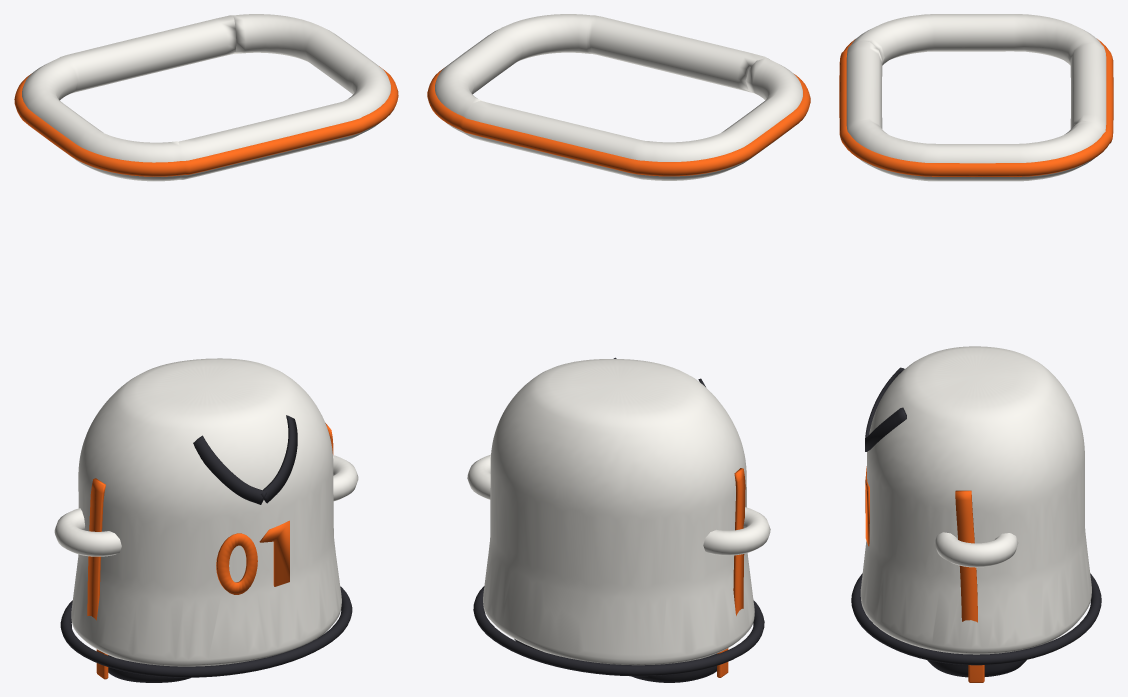
File: sat.glb
The picture shows the model from 3 angles, left to right: view 1: azimuth 30°, elevation 25°; view 2: azimuth 150°, elevation 25°; view 3: azimuth 270°, elevation 25°; orthographic projection. The views are drawn at different scales.
Parts seen in each view (by area): view 1: sat_Torso_00_jersey, sat_Head_00_headband, sat_Head_01_headband_stripe, sat_Torso_01_hem, sat_ArmL_00_wristband, sat_Torso_06_zero, sat_Torso_04_side-1, sat_Torso_02_trim_a, sat_Torso_07_one, sat_Torso_03_trim_b, sat_ArmR_00_wristband.001, sat_Legs_00_shorts-1; view 2: sat_Torso_00_jersey, sat_Head_00_headband, sat_Head_01_headband_stripe, sat_Torso_01_hem, sat_ArmL_00_wristband, sat_Torso_04_side-1, sat_ArmR_00_wristband.001, sat_Legs_00_shorts-1; view 3: sat_Torso_00_jersey, sat_Head_00_headband, sat_Head_01_headband_stripe, sat_Torso_01_hem, sat_ArmR_00_wristband.001, sat_Torso_05_side1, sat_Legs_01_shorts1, sat_Torso_03_trim_b.
Boxes of the visible parts, x1,y1,x2,y2 form: sat_Torso_00_jersey: (71, 358, 341, 666); sat_Head_00_headband: (22, 14, 390, 181); sat_Head_01_headband_stripe: (14, 66, 398, 176); sat_Torso_01_hem: (60, 586, 352, 677); sat_ArmL_00_wristband: (54, 508, 121, 556); sat_Torso_06_zero: (216, 533, 257, 594); sat_Torso_04_side-1: (87, 478, 105, 620); sat_Torso_02_trim_a: (193, 435, 266, 504); sat_Torso_07_one: (259, 520, 289, 586); sat_Torso_03_trim_b: (261, 415, 297, 503); sat_ArmR_00_wristband.001: (333, 455, 358, 501); sat_Legs_00_shorts-1: (108, 655, 190, 682); sat_Torso_00_jersey: (483, 359, 754, 665); sat_Head_00_headband: (435, 14, 802, 180); sat_Head_01_headband_stripe: (427, 67, 810, 176); sat_Torso_01_hem: (473, 586, 764, 676); sat_ArmL_00_wristband: (703, 507, 770, 555); sat_Torso_04_side-1: (733, 468, 745, 615); sat_ArmR_00_wristband.001: (467, 454, 490, 499); sat_Legs_00_shorts-1: (631, 653, 716, 682); sat_Torso_00_jersey: (860, 346, 1091, 654); sat_Head_00_headband: (846, 14, 1106, 181); sat_Head_01_headband_stripe: (839, 39, 1113, 176); sat_Torso_01_hem: (851, 573, 1101, 665); sat_ArmR_00_wristband.001: (934, 532, 1018, 567); sat_Torso_05_side1: (955, 490, 977, 622); sat_Legs_01_shorts1: (927, 660, 1026, 677); sat_Torso_03_trim_b: (865, 407, 906, 451).
Size of the model in its own units: 1.32 by 2.28 by 1.02.
